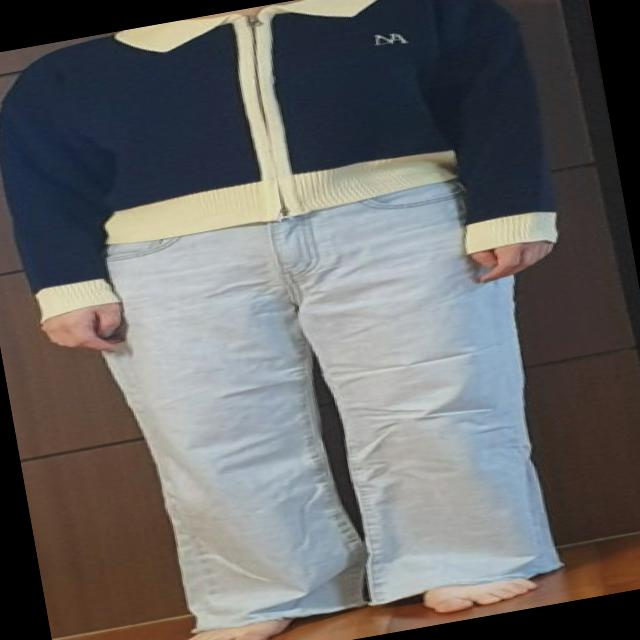cardigan: (0, 0, 569, 336)
denimpants: (78, 166, 580, 640)
